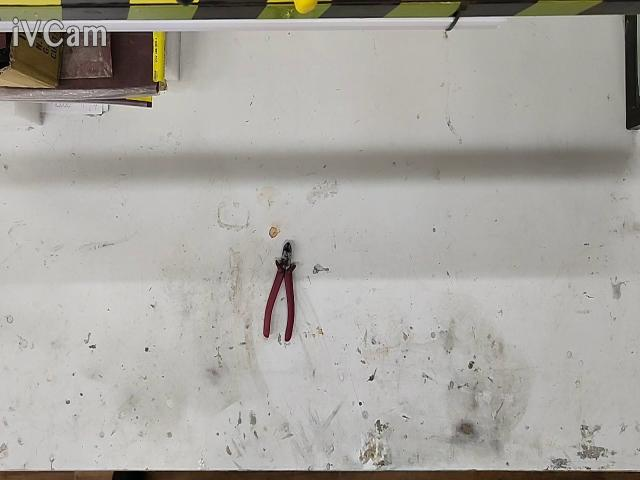Cutting pliers: (264, 242, 297, 341)
